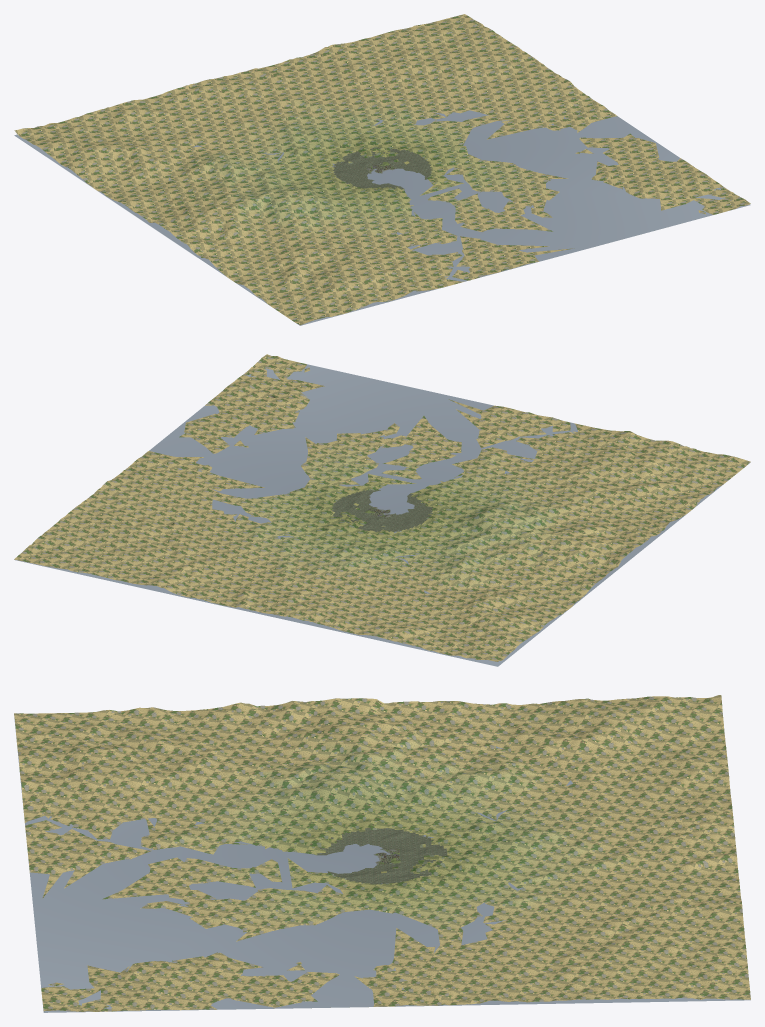
The model's file is bellerive_backdrop_part1.glb.
3 views of the same model, one above another, from view 1: azimuth 30°, elevation 25°; view 2: azimuth 150°, elevation 25°; view 3: azimuth 270°, elevation 25° (orthographic). The views are drawn at different scales.
Visible parts, largest first — view 1: bg_far_terrain, bg_far_water, bg_far_suburb; view 2: bg_far_terrain, bg_far_water, bg_far_suburb; view 3: bg_far_terrain, bg_far_water, bg_far_suburb.
Part boxes in pixels (left/top/right/bottom): bg_far_terrain: left=14, top=14, right=750, bottom=325; bg_far_water: left=14, top=110, right=750, bottom=325; bg_far_suburb: left=333, top=147, right=431, bottom=189; bg_far_terrain: left=14, top=354, right=750, bottom=661; bg_far_water: left=14, top=364, right=750, bottom=666; bg_far_suburb: left=332, top=489, right=432, bottom=532; bg_far_terrain: left=14, top=695, right=750, bottom=1011; bg_far_water: left=14, top=715, right=750, bottom=1012; bg_far_suburb: left=317, top=828, right=447, bottom=884.
Size of the model in its own units: 62460 by 1264 by 62460.
23 materials, 16 textured.
